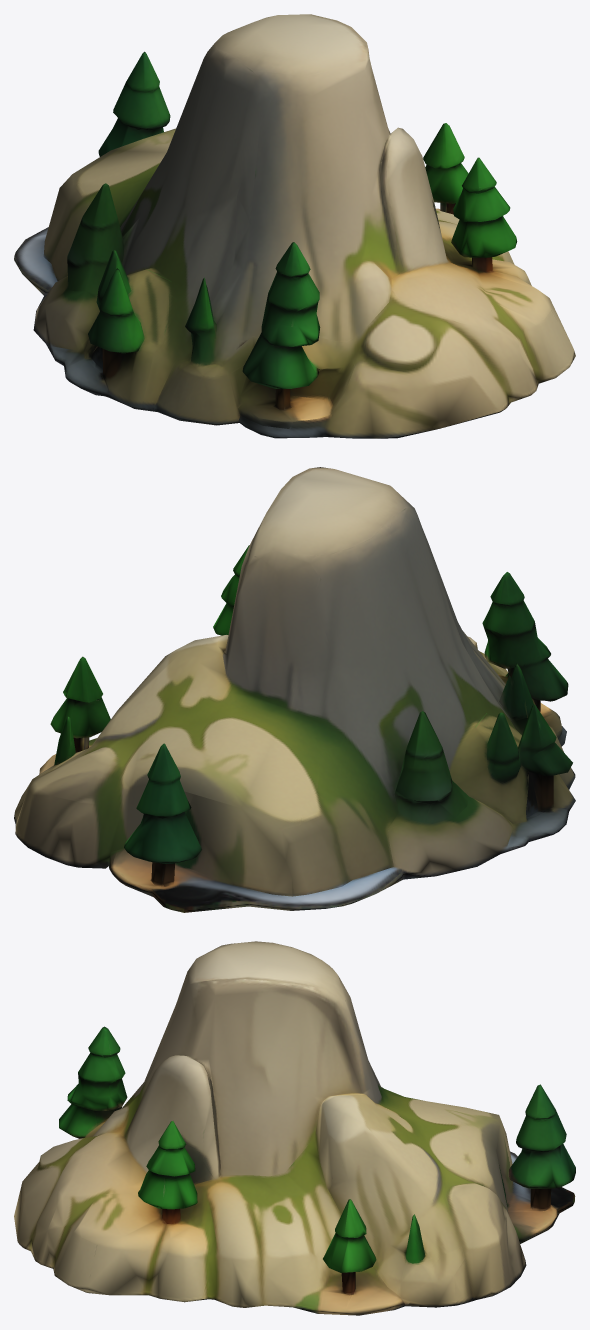
File: half-dome.glb
3 renders of one model, top to bottom at view 1: azimuth 30°, elevation 25°; view 2: azimuth 150°, elevation 25°; view 3: azimuth 270°, elevation 25°, orthographic. The views are drawn at different scales.
Parts seen in each view (by area): view 1: geometry_0; view 2: geometry_0; view 3: geometry_0.
Part boxes in pixels (x1,y1,x2,y2): geometry_0: [14, 14, 575, 438]; geometry_0: [14, 467, 575, 912]; geometry_0: [14, 941, 575, 1315].
Size of the model in its own units: 0.8317 by 0.5084 by 0.9986.
Materials: 1 (1 with a texture image).
